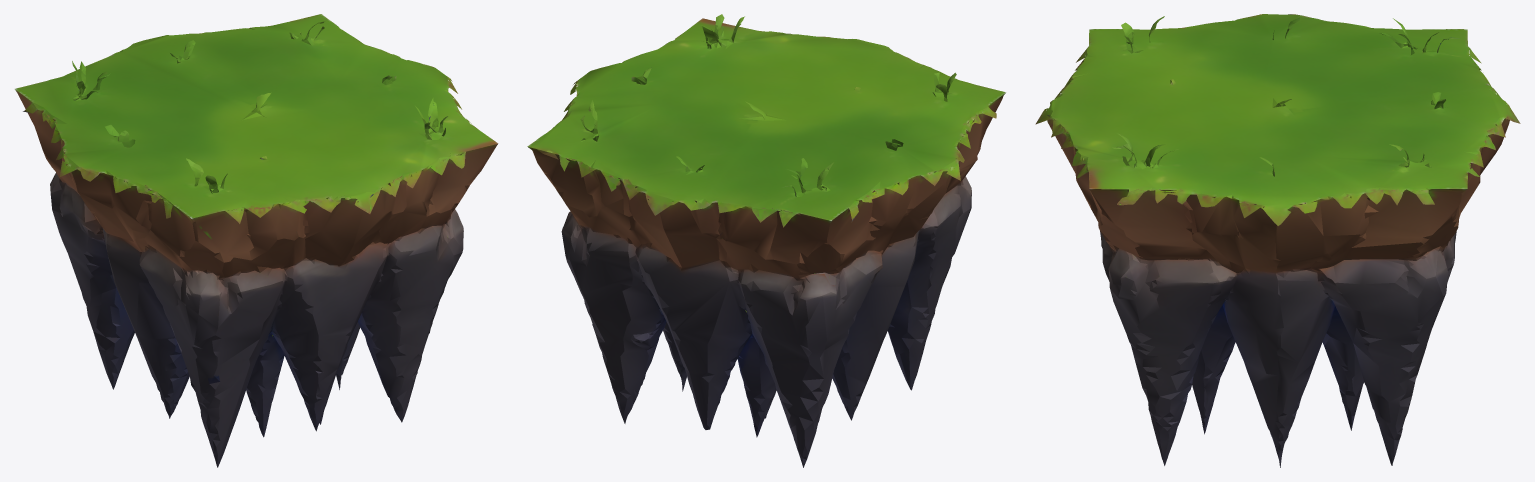
The model's file is island2.glb.
3 views of the same model, side by side, from view 1: azimuth 30°, elevation 25°; view 2: azimuth 150°, elevation 25°; view 3: azimuth 270°, elevation 25° (orthographic). The views are drawn at different scales.
Visible parts, largest first — view 1: island2; view 2: island2; view 3: island2.
Part boxes in pixels (box(x1,y1,x2,y2)): island2: box(14, 14, 498, 467); island2: box(527, 14, 1006, 467); island2: box(1035, 14, 1520, 467).
Size of the model in its own units: 1.89 by 1.51 by 1.89.
1 material, 1 textured.
